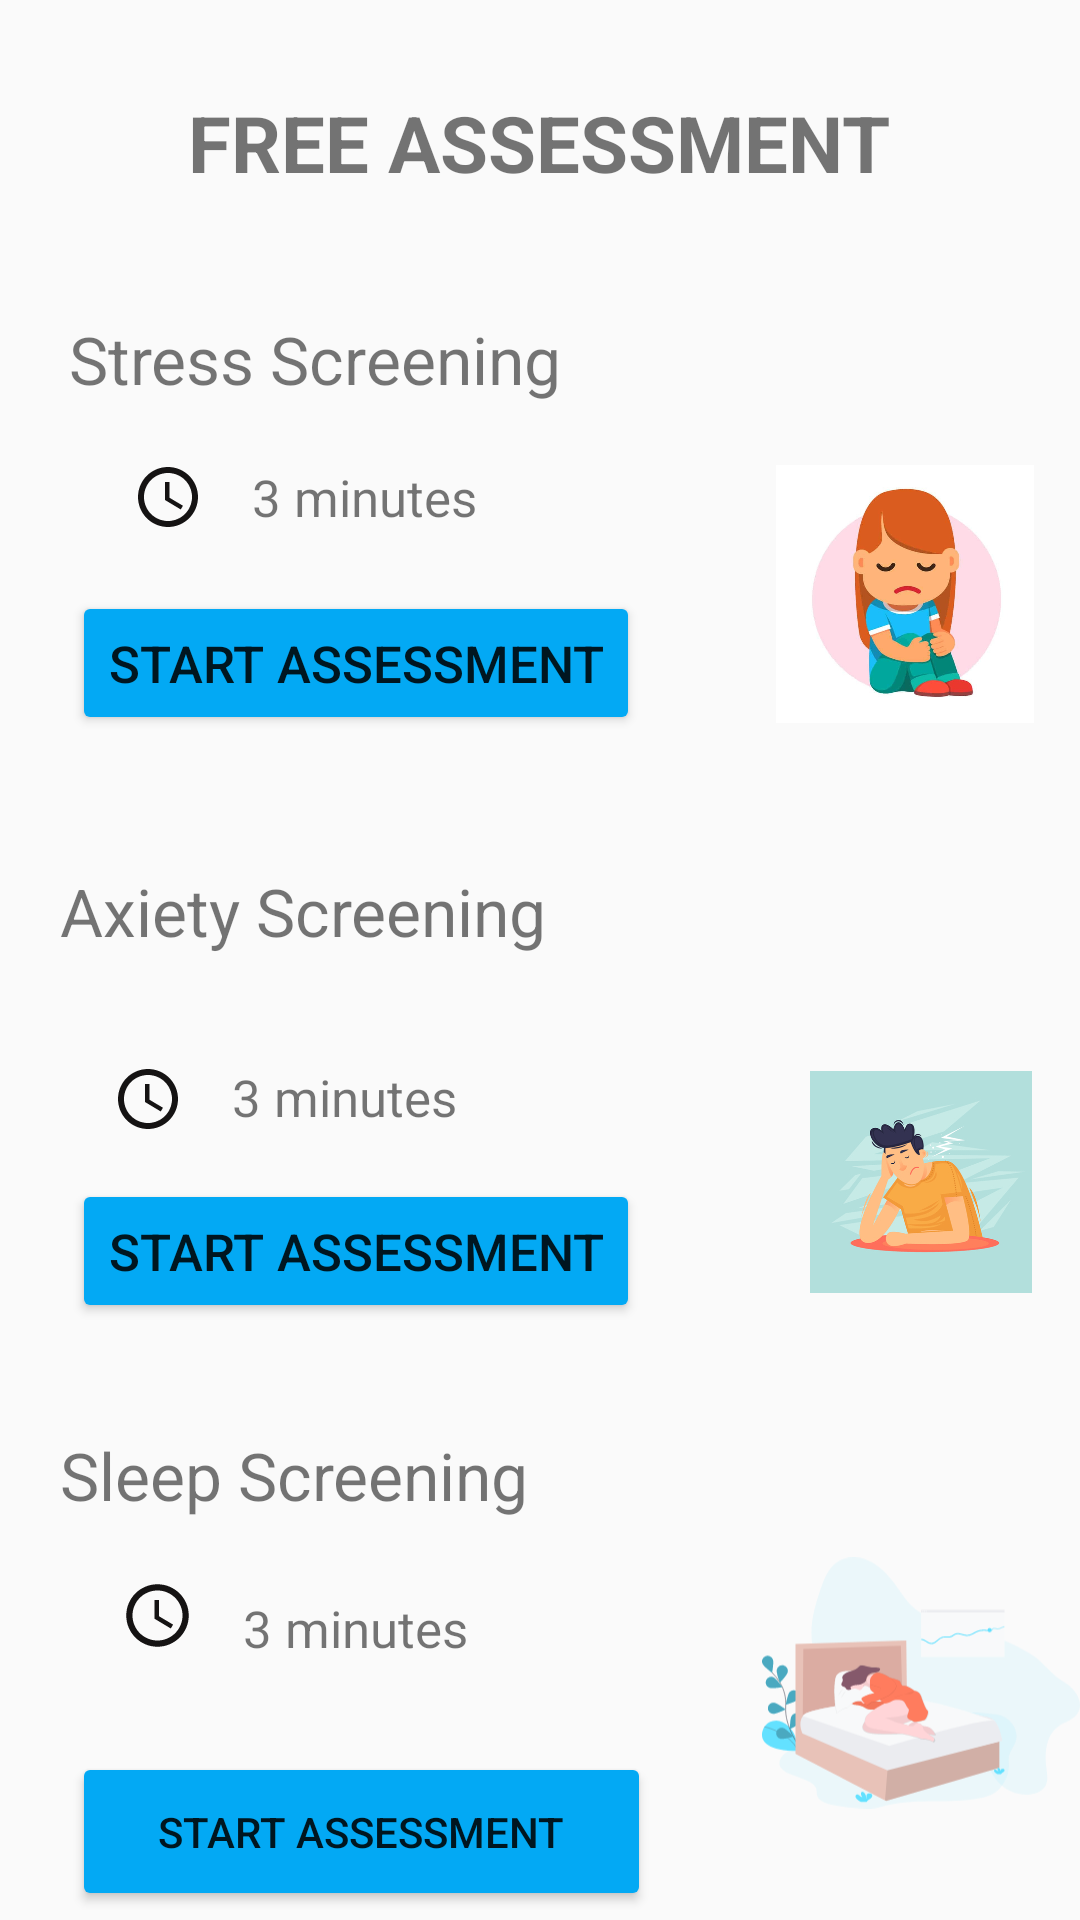

Where to tap for icons on this 1080 × 1920 app screen, as [x,y]:
access time: [168,497], [148,1099], [157,1615]
sleep: [889,1714]
